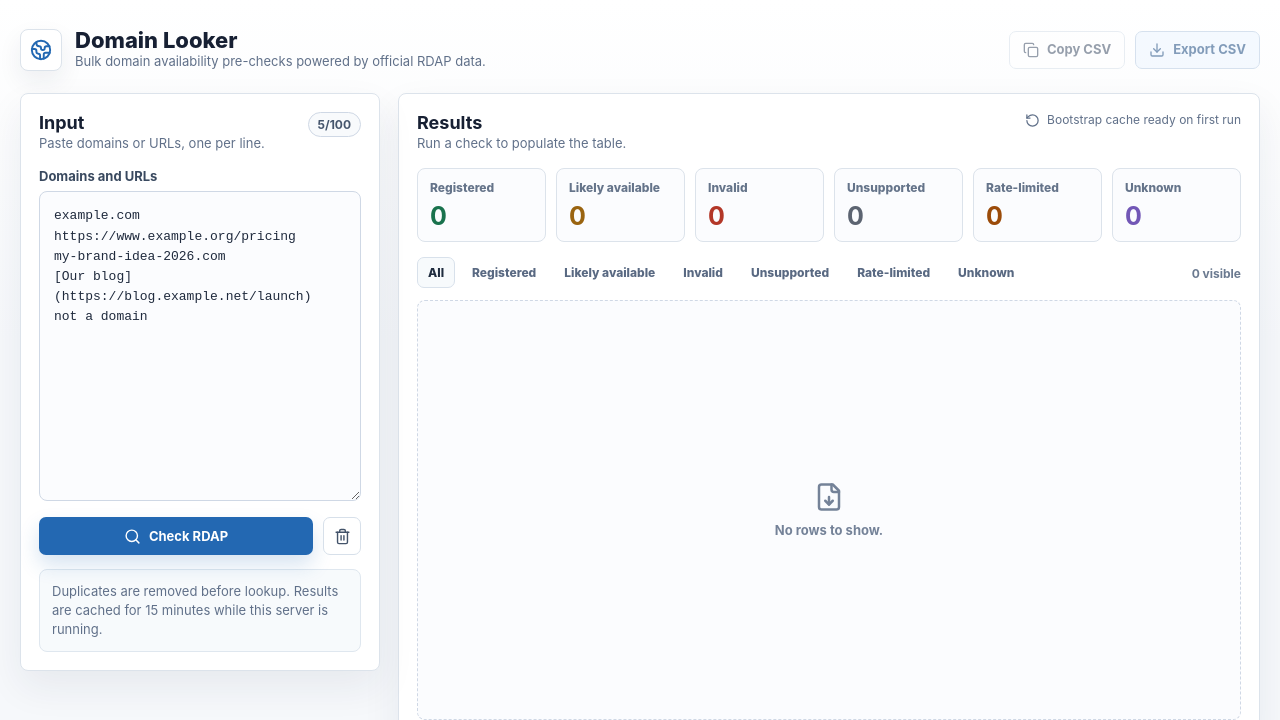
Test case: App › clears input and results
This screenshot has width=1280, height=720.
Click the button named "clear input and results" at (342, 536), box [323,518,361,556]
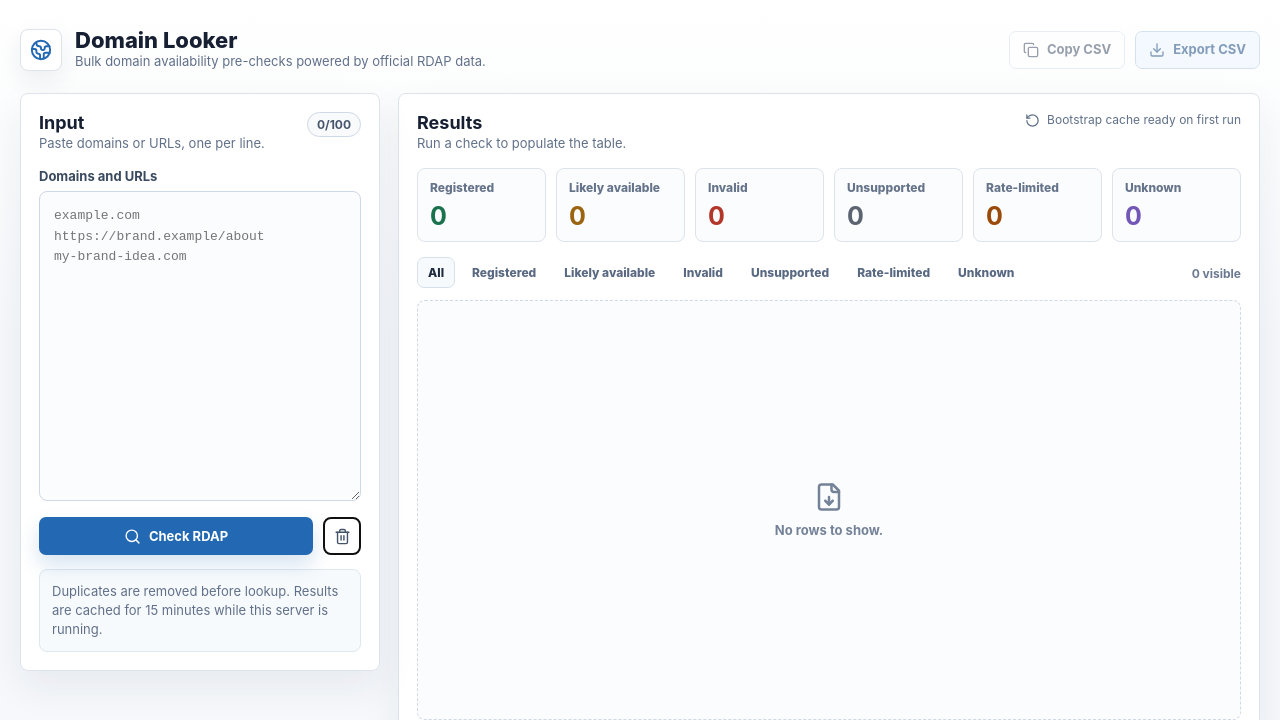
Check: the text "No rows to show." is shown, box [775,522,883,538]
Check: the text box labelled "Domains and URLs" is empty, box [39,192,361,502]
